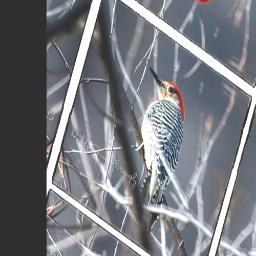Woodpecker: (114, 57, 200, 219)
